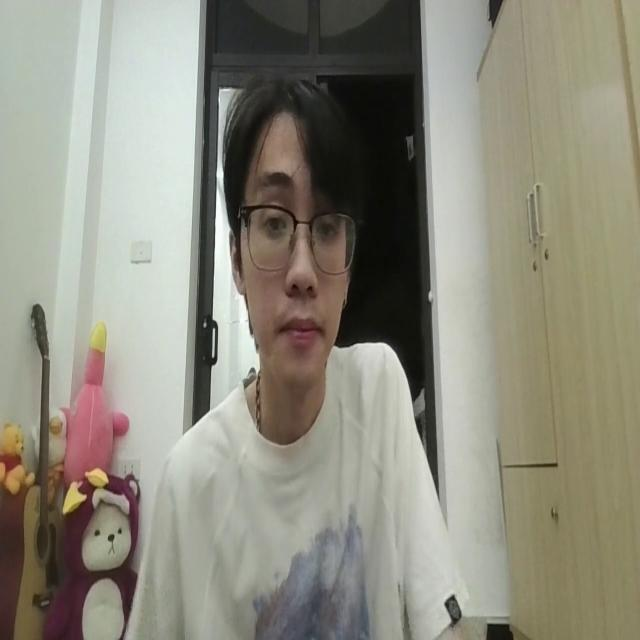student: (119, 50, 470, 640)
